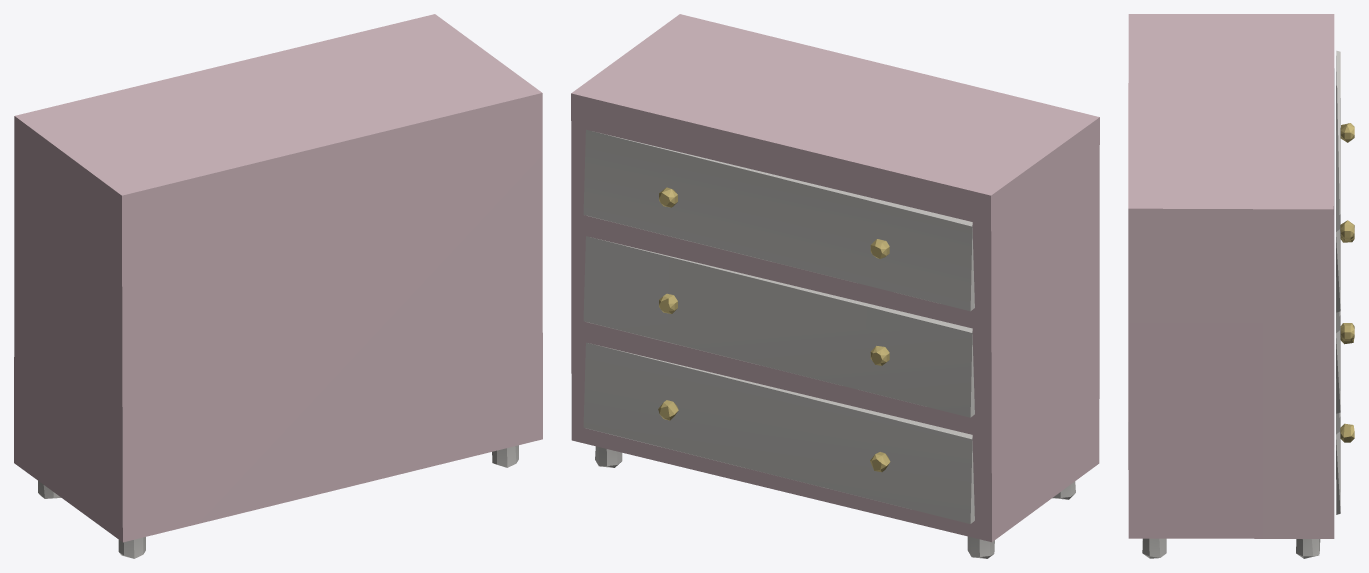
The model's file is furn_dresser__pink_low.glb.
The picture shows the model from 3 angles, left to right: view 1: azimuth 30°, elevation 25°; view 2: azimuth 150°, elevation 25°; view 3: azimuth 270°, elevation 25°; orthographic projection. The views are drawn at different scales.
Bounding box in the file's own units: 0.9935 × 0.8469 × 0.4871.
